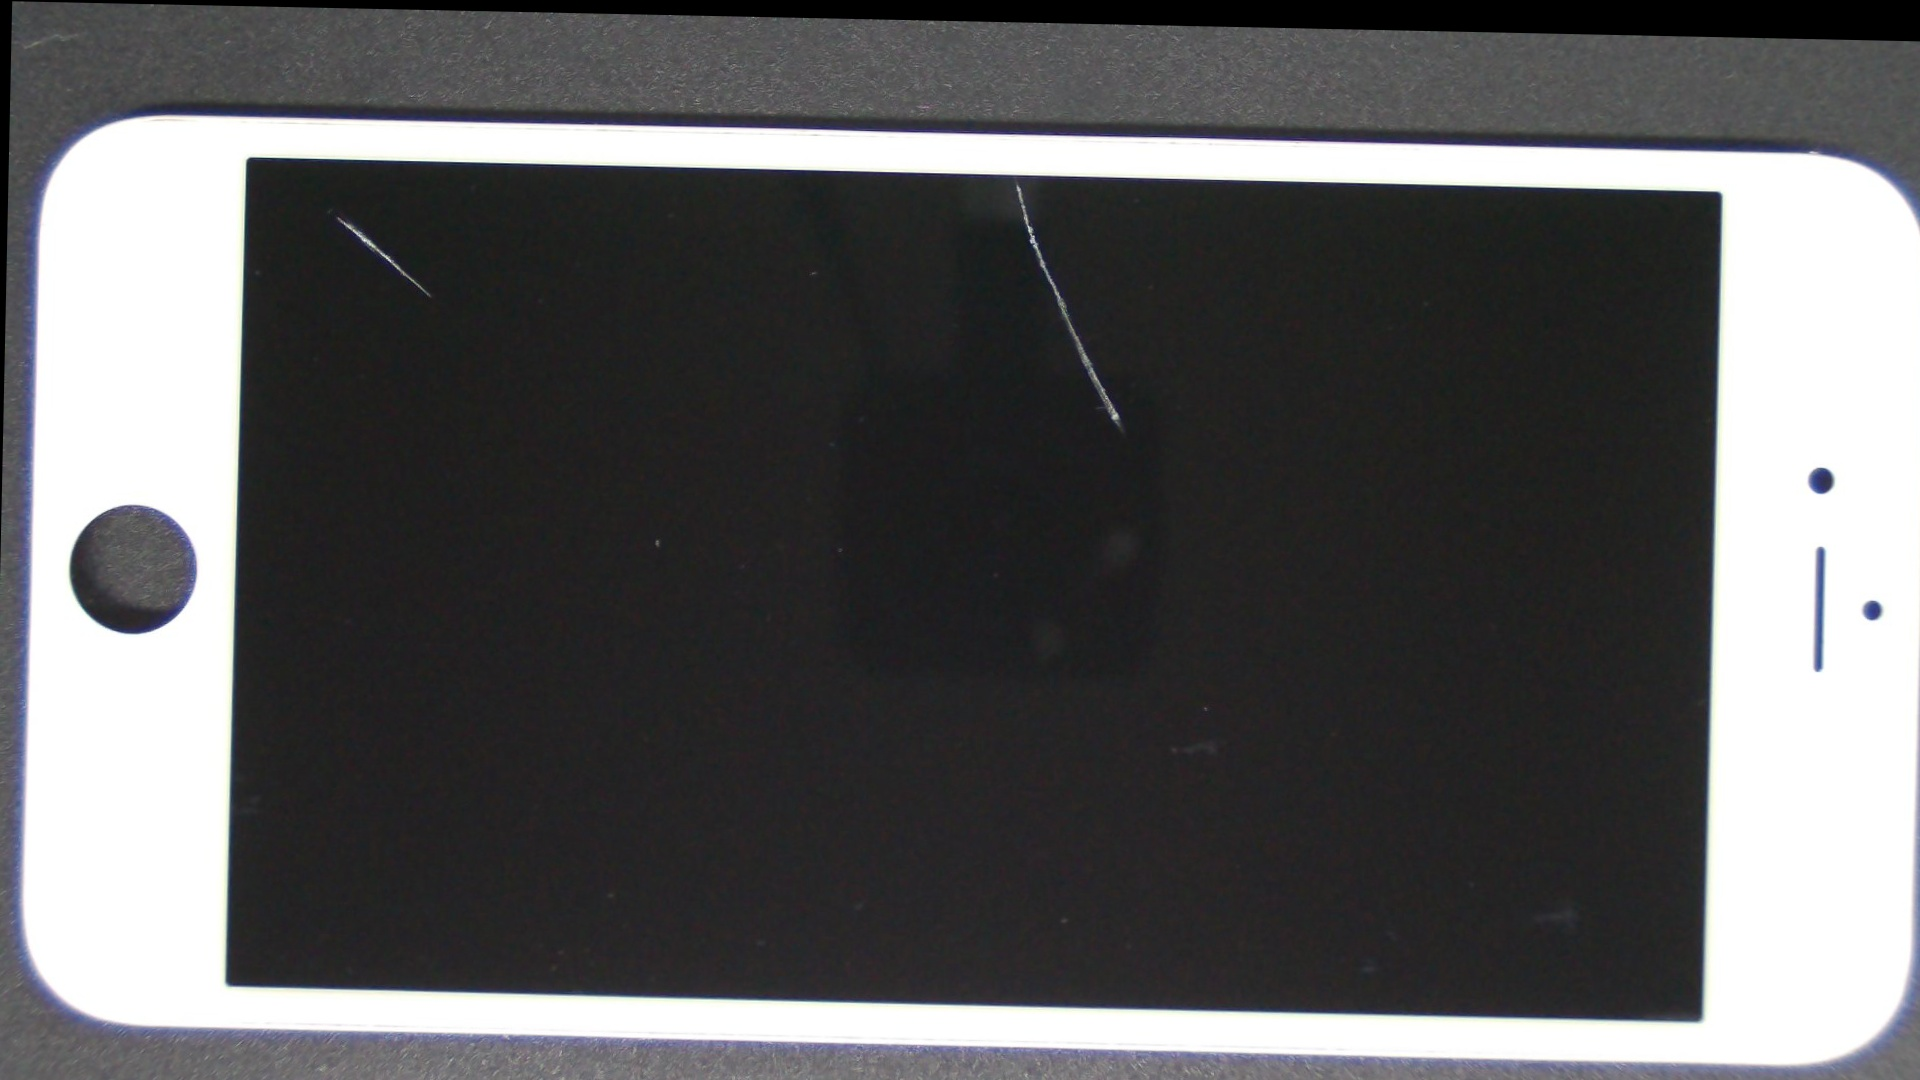oil: (510, 91, 1520, 273), (170, 108, 502, 323)
